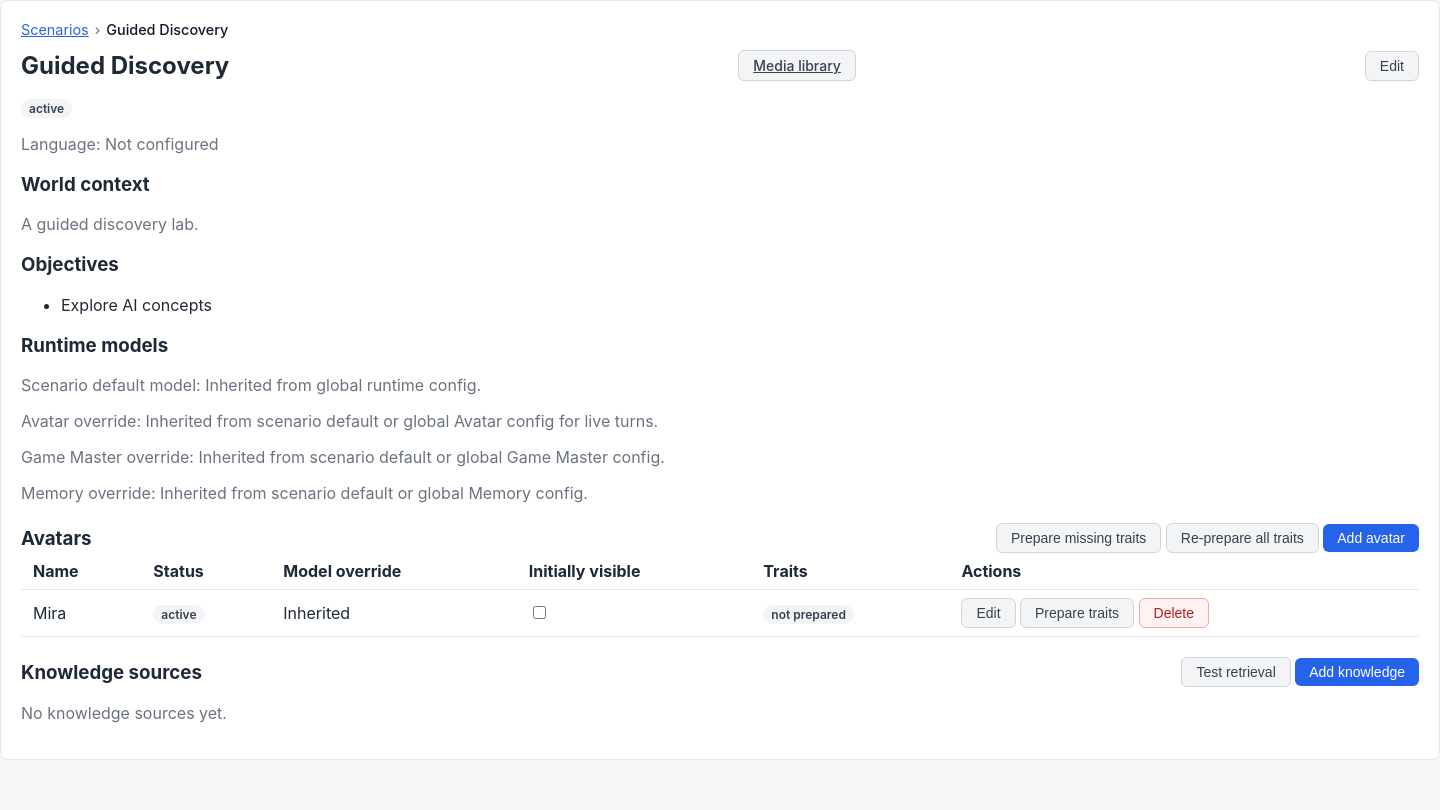
ScenarioDetailPage avatar trait preparation trigger › refreshes avatars from the API and shows a success message after preparation
The width and height of the screenshot is (1440, 810).
Expected: the heading "Guided Discovery" is shown, [21,51,229,80]
What coordinates should you click on to do the following:
click the button "Re-prepare all traits"
I would click on:
 (1242, 538)
Its box is [1166,523,1319,553].
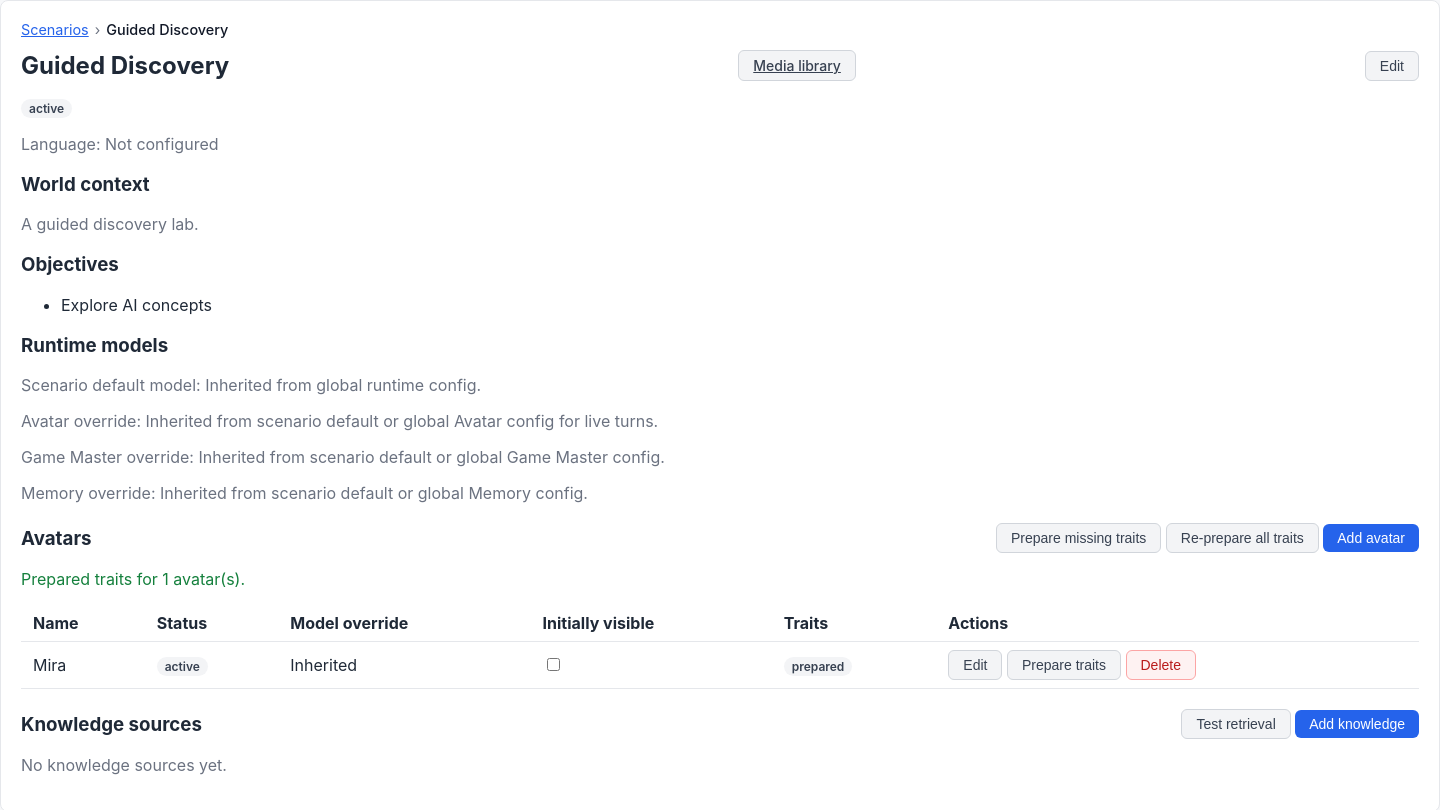
Expected: the text "prepared" is shown, [784,657,852,676]
Expected: the text "Prepared traits for 1 avatar(s)." is shown, [21,569,245,589]
